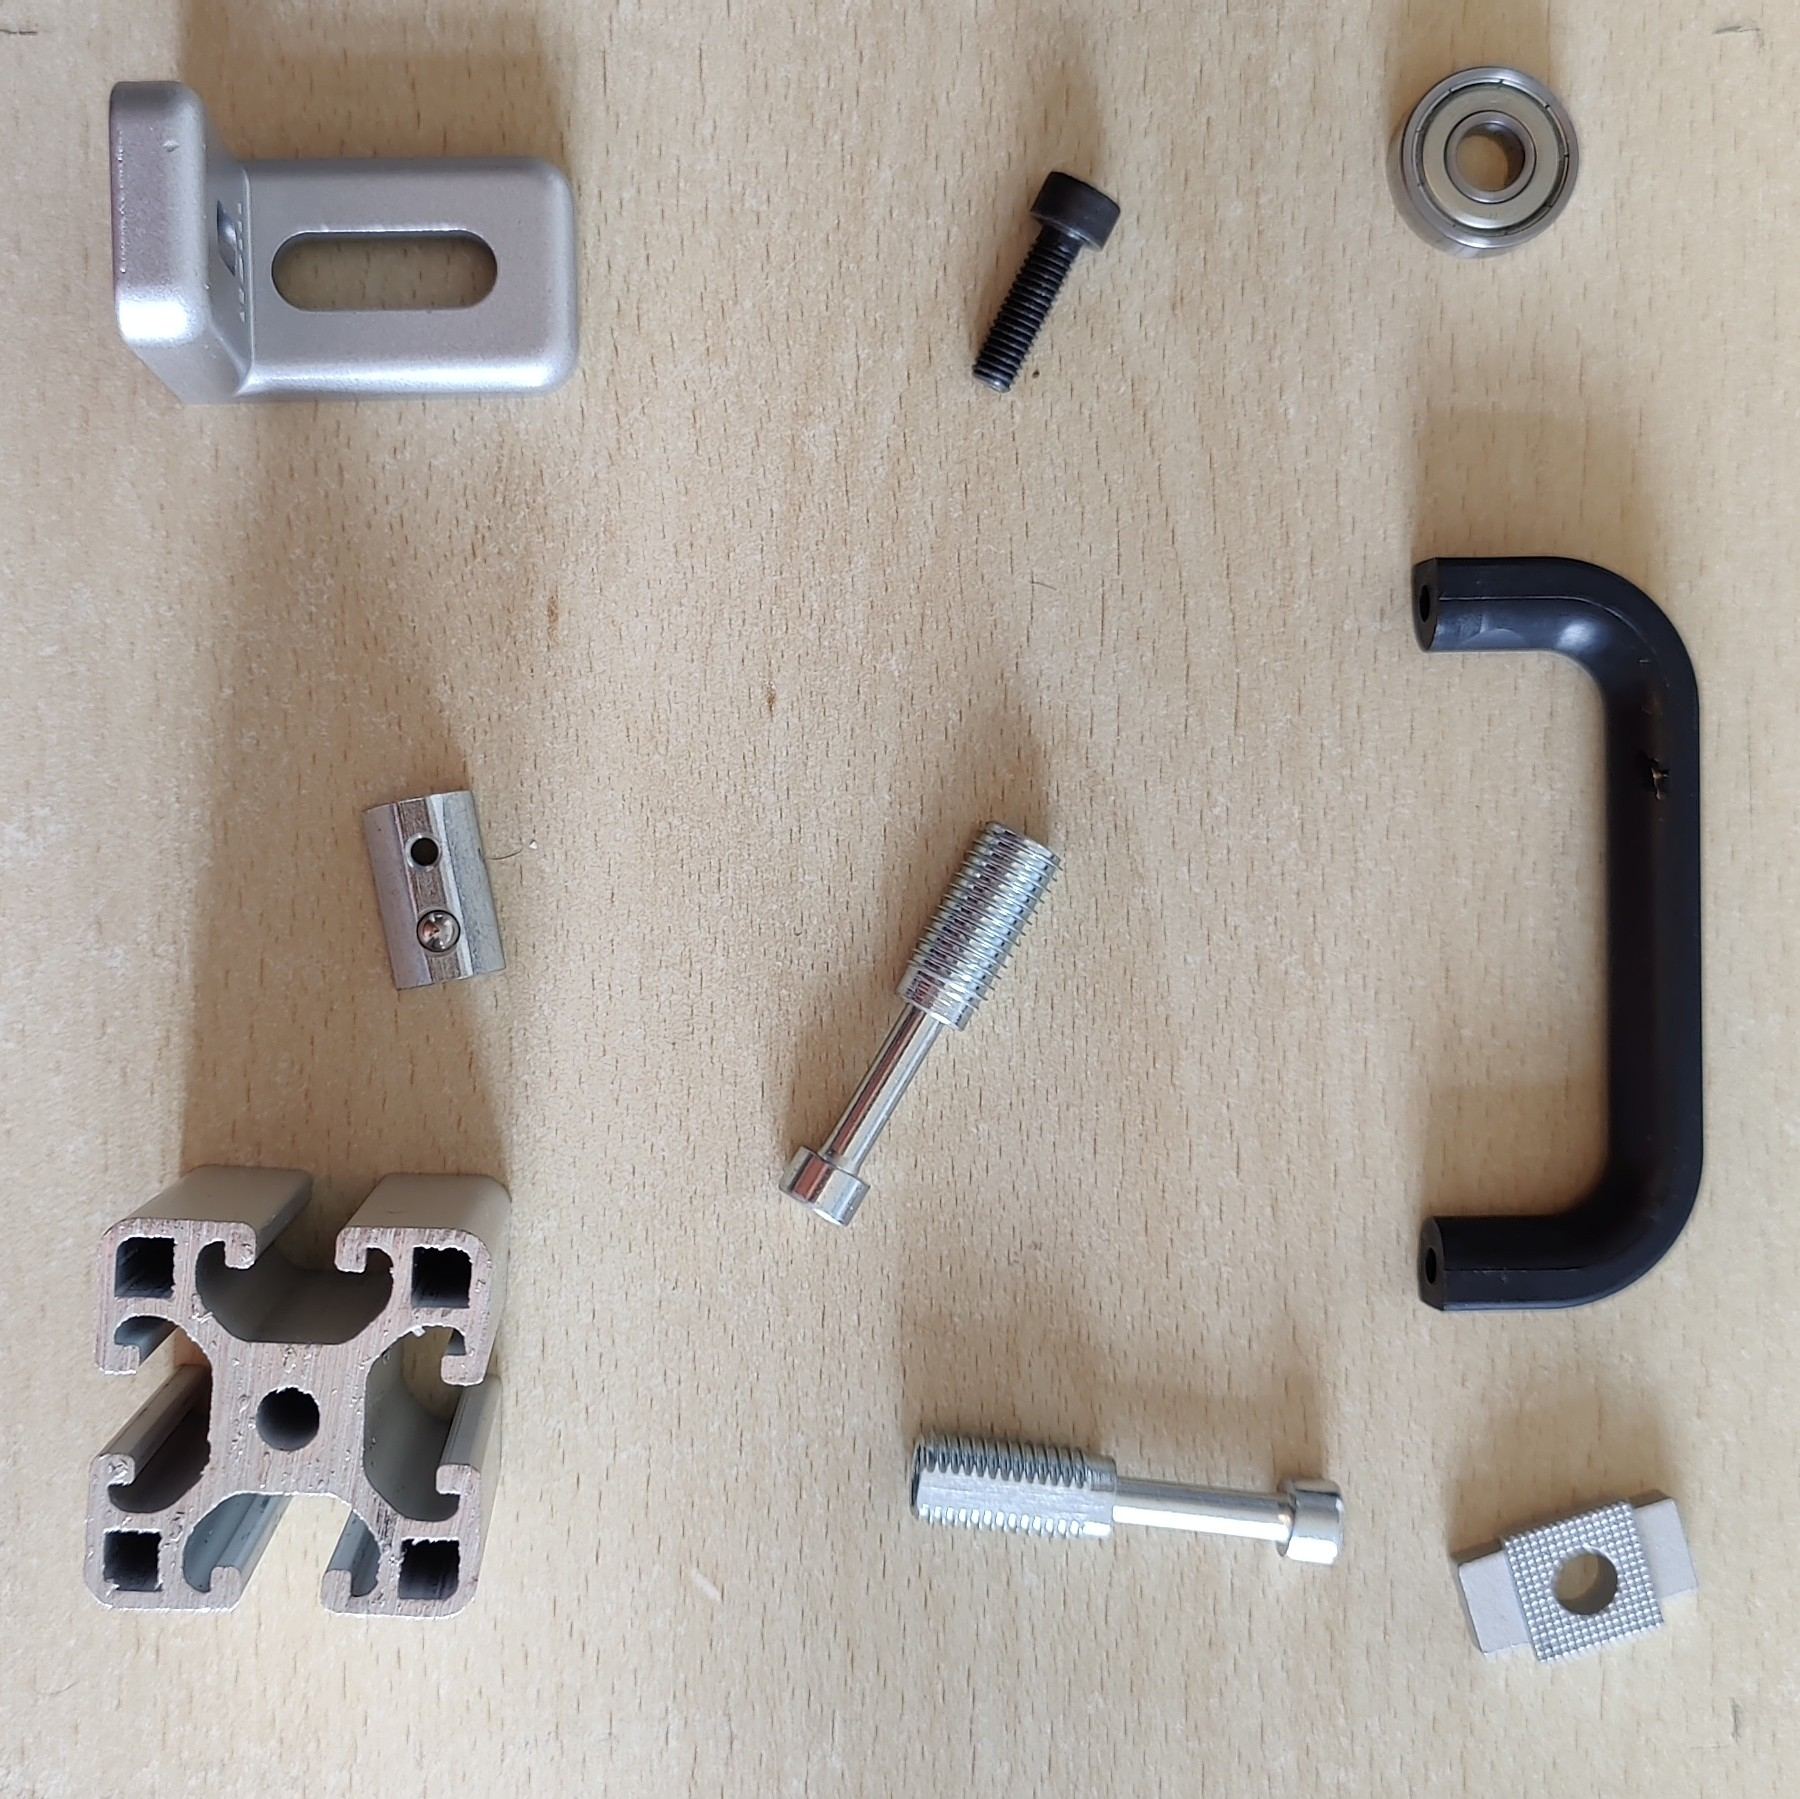Aluminium Extension: (81, 1161, 515, 1619)
Ball Bearing: (1383, 64, 1581, 260)
Multiwinkel: (102, 76, 581, 409)
Pull Handle: (1408, 554, 1704, 1315)
Shoulder Socket Head Cap Screw: (774, 819, 1066, 1231), (906, 1423, 1350, 1572)
Socket Head Cap Screw: (967, 165, 1122, 399)
T Nut Square: (1448, 1481, 1701, 1666)
T Spring Nut: (356, 787, 507, 993)
